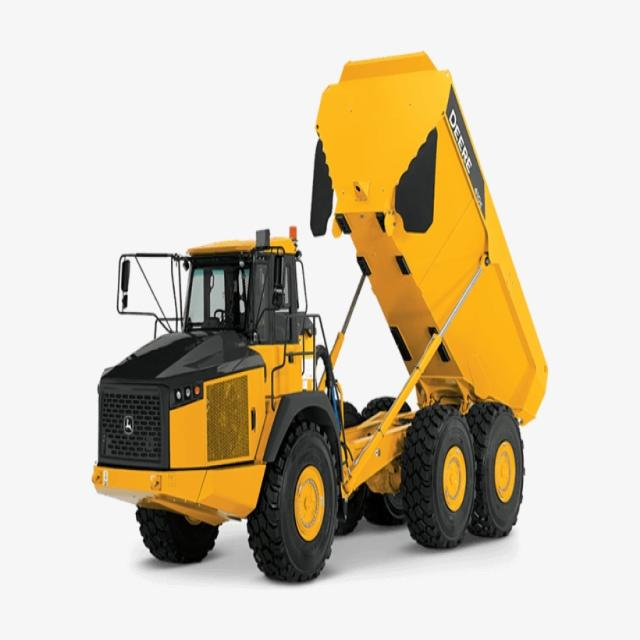dump_truck: (74, 41, 547, 588)
